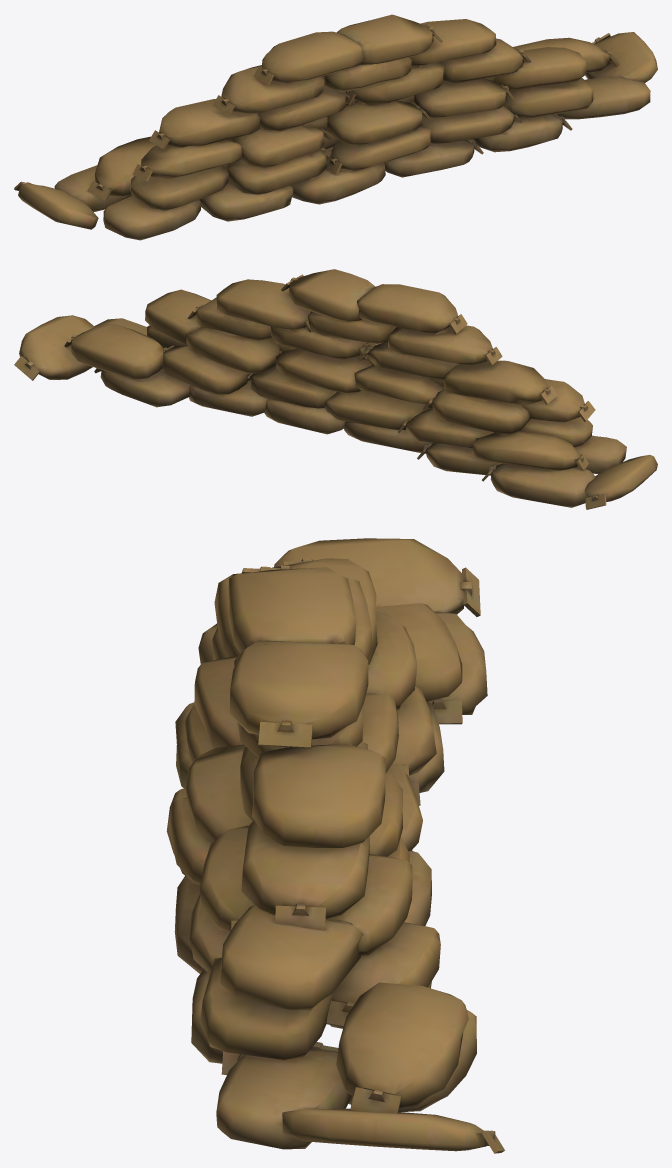
The model's file is sandbag_berm-low.glb.
The picture shows the model from 3 angles, top to bottom: view 1: azimuth 30°, elevation 25°; view 2: azimuth 150°, elevation 25°; view 3: azimuth 270°, elevation 25°; orthographic projection. The views are drawn at different scales.
Parts seen in each view (by area): view 1: sandbag_berm; view 2: sandbag_berm; view 3: sandbag_berm.
Boxes of the visible parts, x1=… form: sandbag_berm: x1=14, y1=14, x2=657, y2=240; sandbag_berm: x1=14, y1=269, x2=657, y2=509; sandbag_berm: x1=166, y1=538, x2=504, y2=1153.
Bounding box in the file's own units: 4.19 × 0.8675 × 1.01.
1 material, 1 textured.
